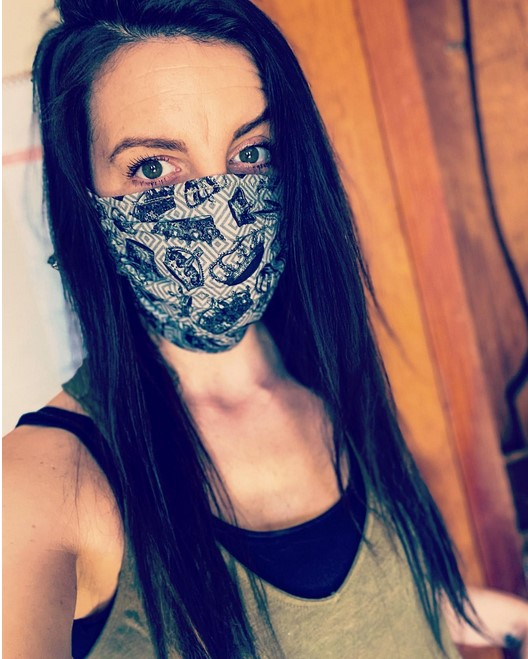face_with_mask: (28, 6, 304, 357)
